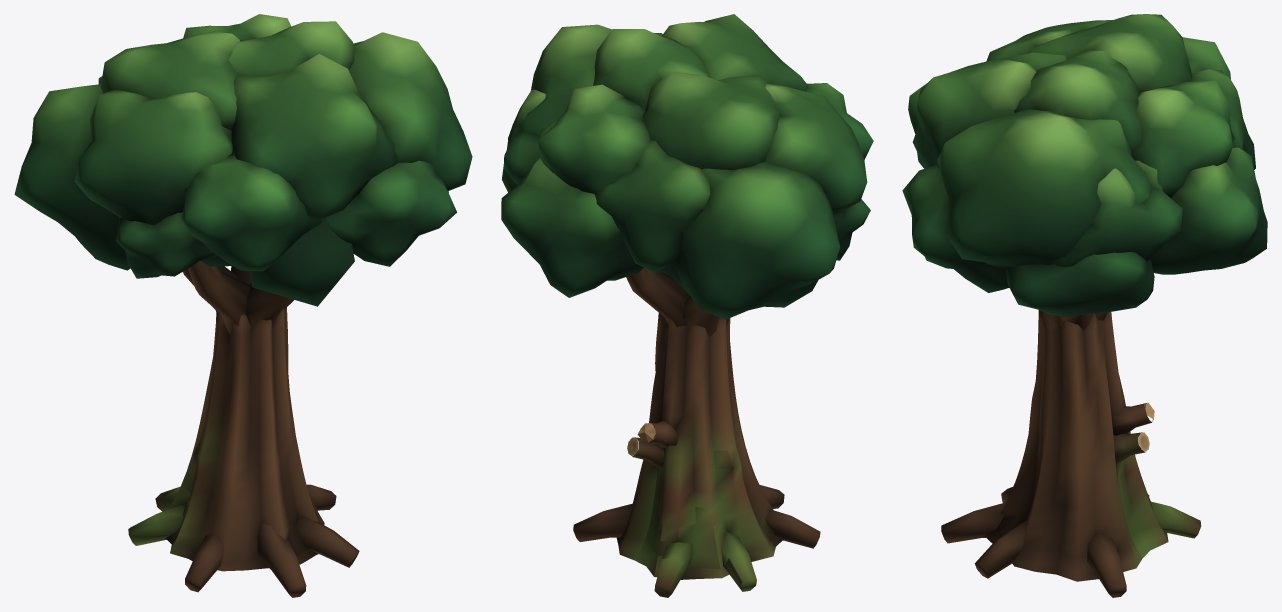
Rendered from tree-big-v3.glb.
3 views of the same model, side by side, from view 1: azimuth 30°, elevation 25°; view 2: azimuth 150°, elevation 25°; view 3: azimuth 270°, elevation 25° (orthographic). The views are drawn at different scales.
Visible parts, largest first — view 1: 1_leaves, 0_trunk; view 2: 1_leaves, 0_trunk; view 3: 1_leaves, 0_trunk.
Boxes of the visible parts, box(x1,y1,x2,y2) form: 1_leaves: box(14, 14, 472, 306); 0_trunk: box(128, 260, 359, 597); 1_leaves: box(501, 14, 873, 319); 0_trunk: box(573, 268, 820, 597); 1_leaves: box(902, 14, 1267, 316); 0_trunk: box(941, 310, 1201, 597).
Bounding box in the file's own units: 6.44 × 8.55 × 5.52.
